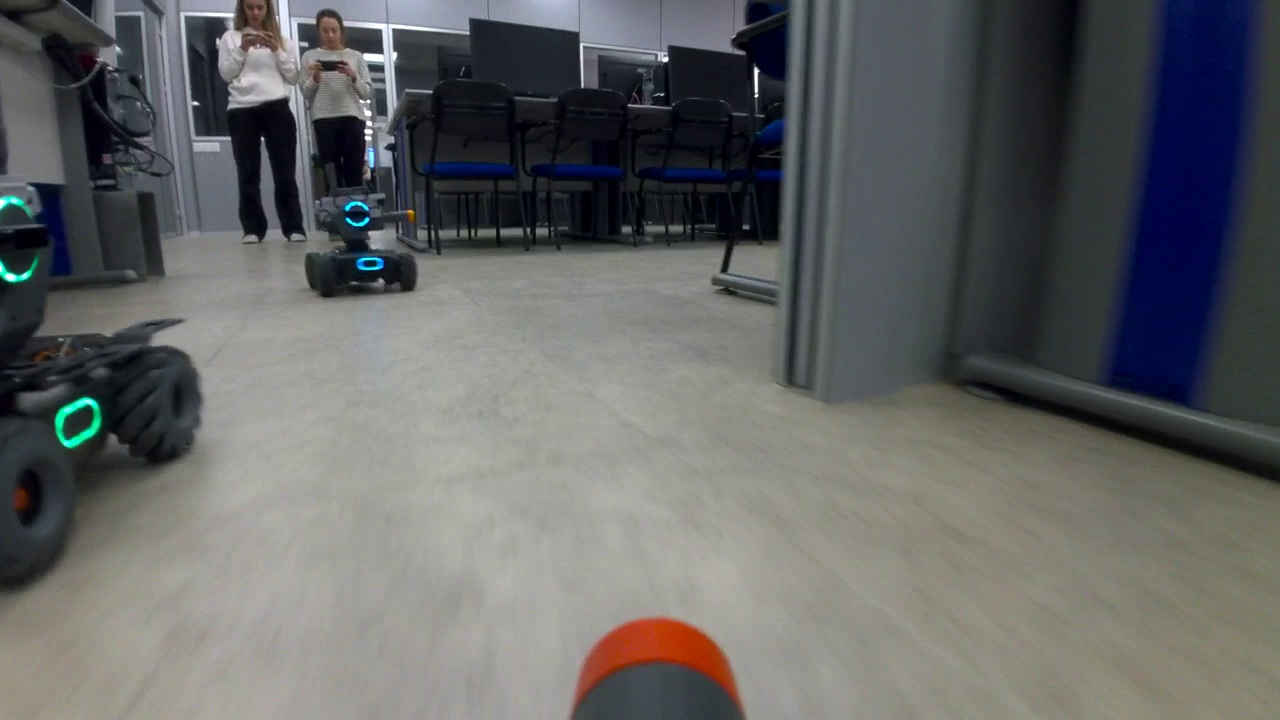robot: (4, 147, 201, 597), (303, 187, 416, 305)
